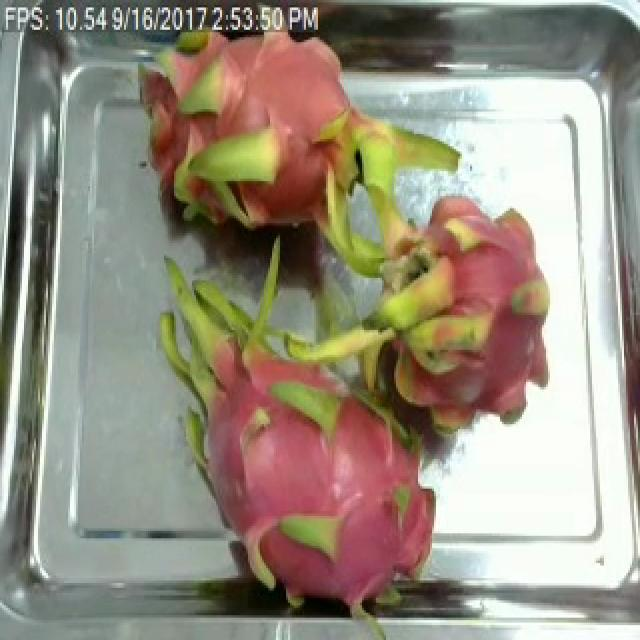Fruit: (380, 469, 450, 588)
